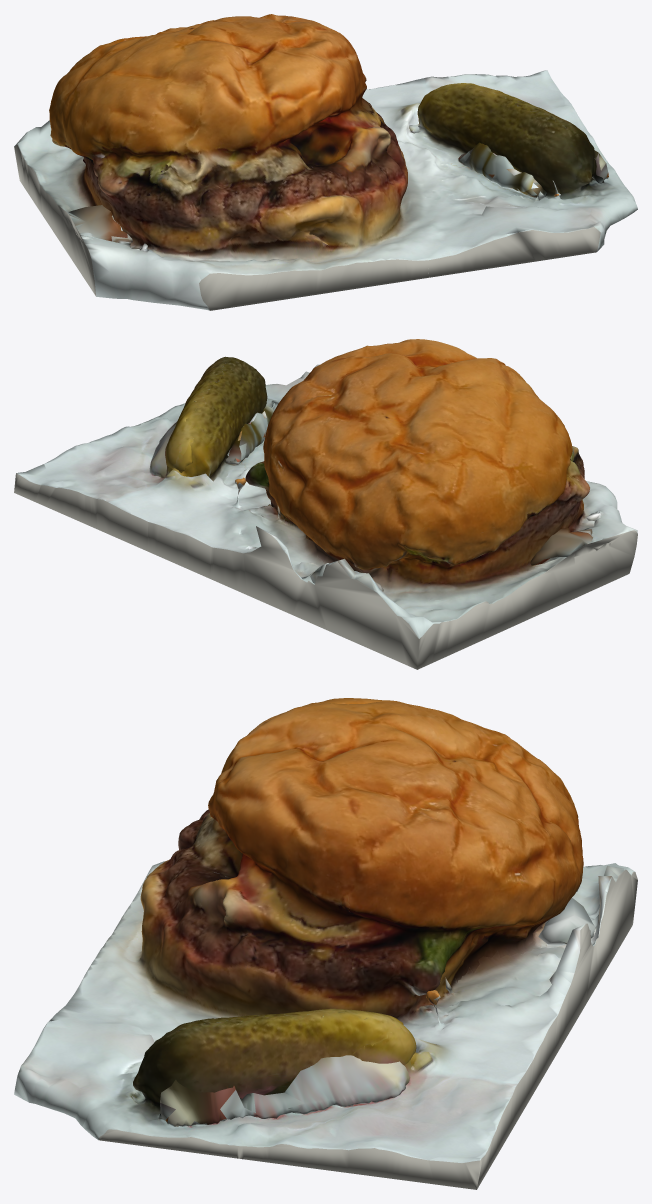
File: newburg.gltf
The picture shows the model from 3 angles, top to bottom: view 1: azimuth 30°, elevation 25°; view 2: azimuth 150°, elevation 25°; view 3: azimuth 270°, elevation 25°; orthographic projection. The views are drawn at different scales.
Visible parts, largest first — view 1: mesh; view 2: mesh; view 3: mesh.
Part boxes in pixels (box(x1,y1,x2,y2)): mesh: box(14, 14, 637, 310); mesh: box(14, 339, 637, 669); mesh: box(14, 698, 637, 1189).
Size of the model in its own units: 3.62 by 1.28 by 2.84.
1 material, 1 textured.
